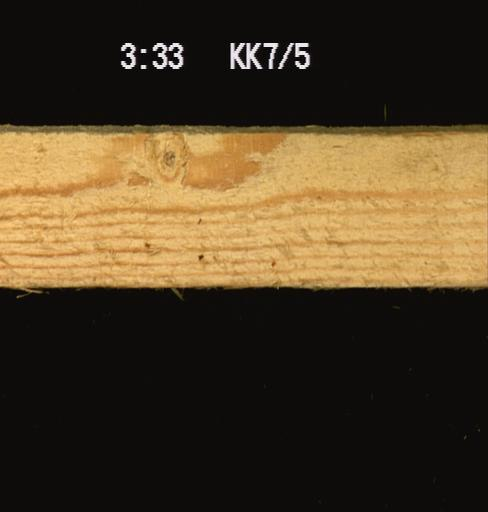sound_knot: (145, 132, 190, 183)
